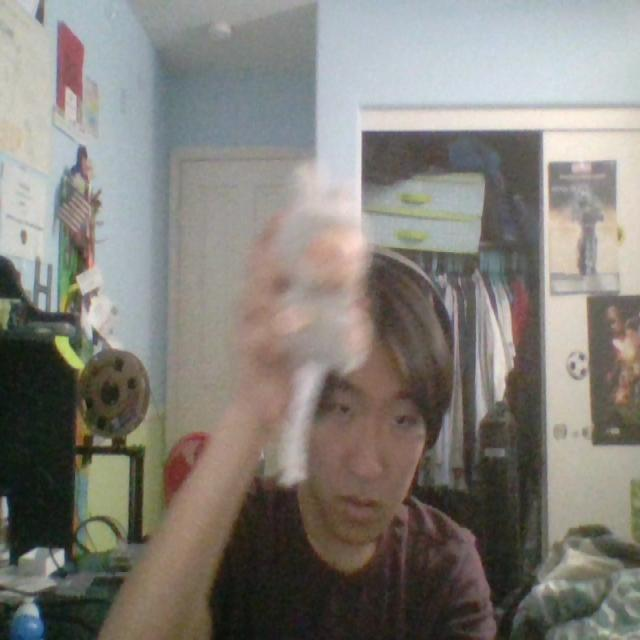labubu: (270, 188, 369, 373)
